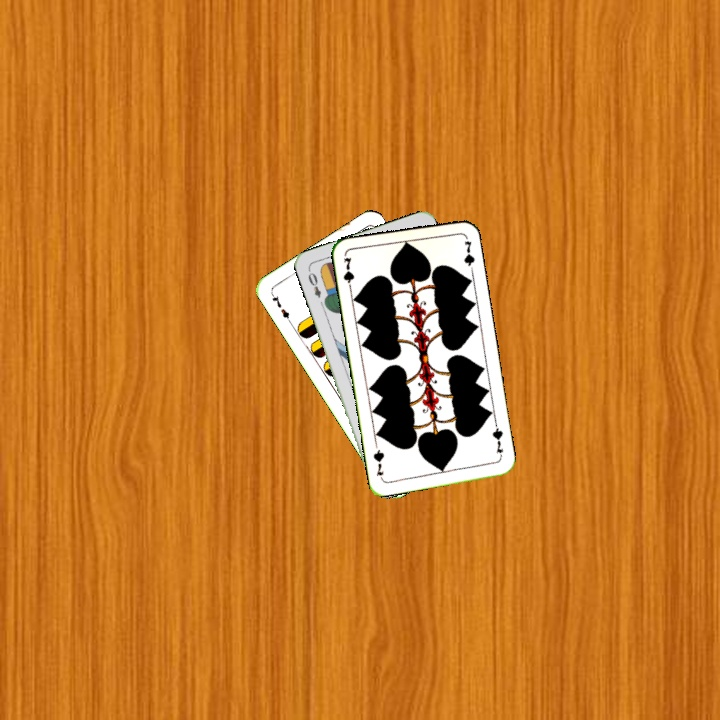E7: (267, 289, 294, 325)
EO: (304, 265, 324, 300)
G7: (339, 253, 357, 294), (488, 420, 506, 461)
